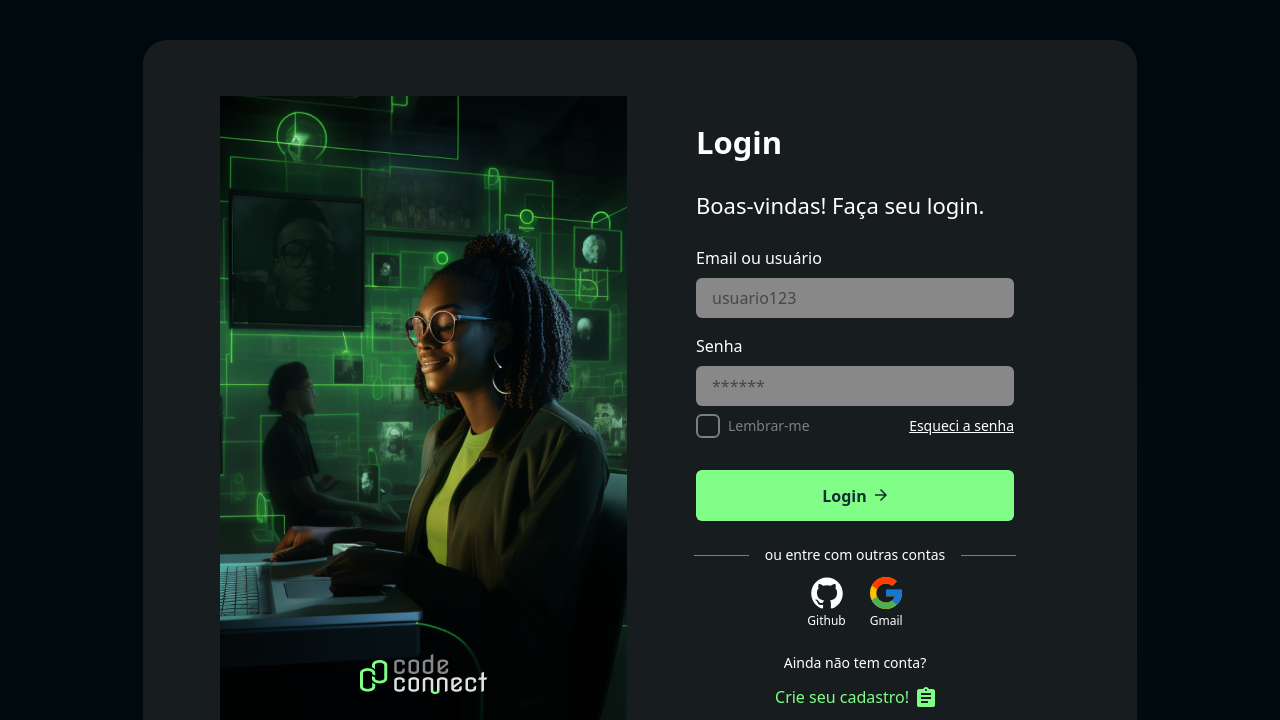
Test case: App routes › navigates from login to sign-up and back
Click the link "Crie seu cadastro!".
click(855, 697)  # box top-left (775, 685), bottom-right (935, 709)
(page scrolled)
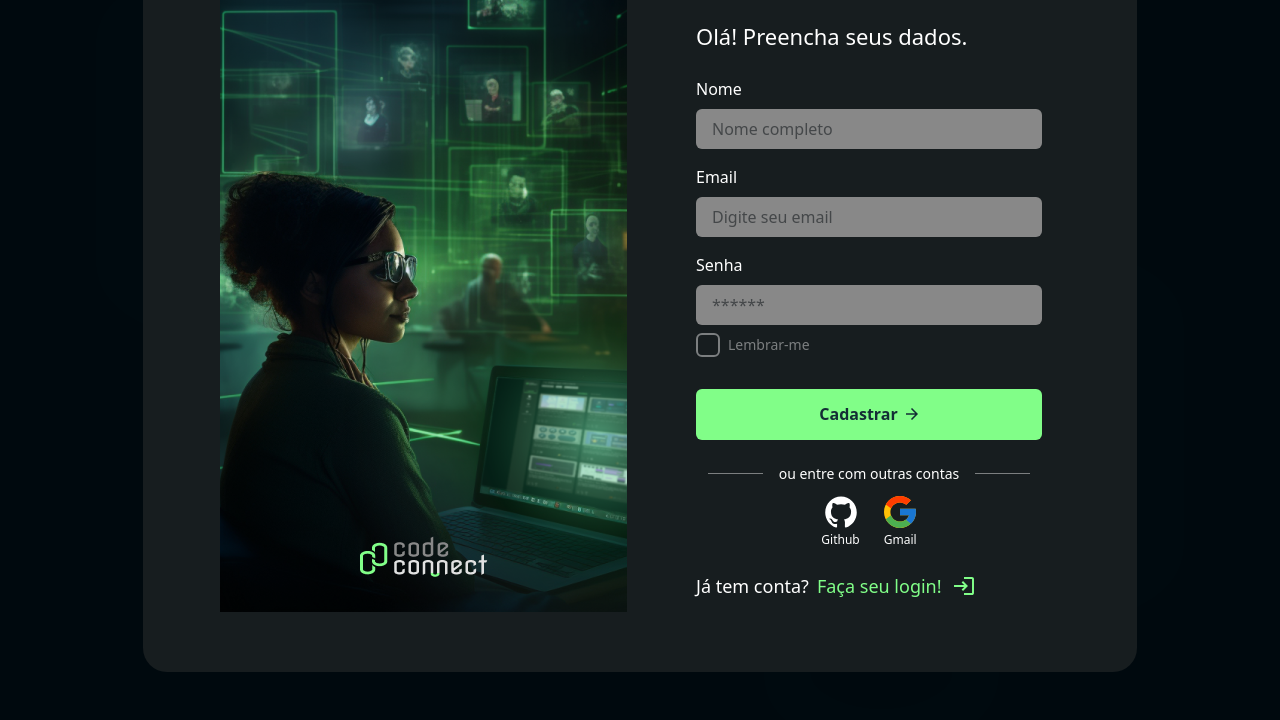
Click the link "Faça seu login!".
click(895, 586)  # box top-left (817, 572), bottom-right (974, 600)
(page scrolled)
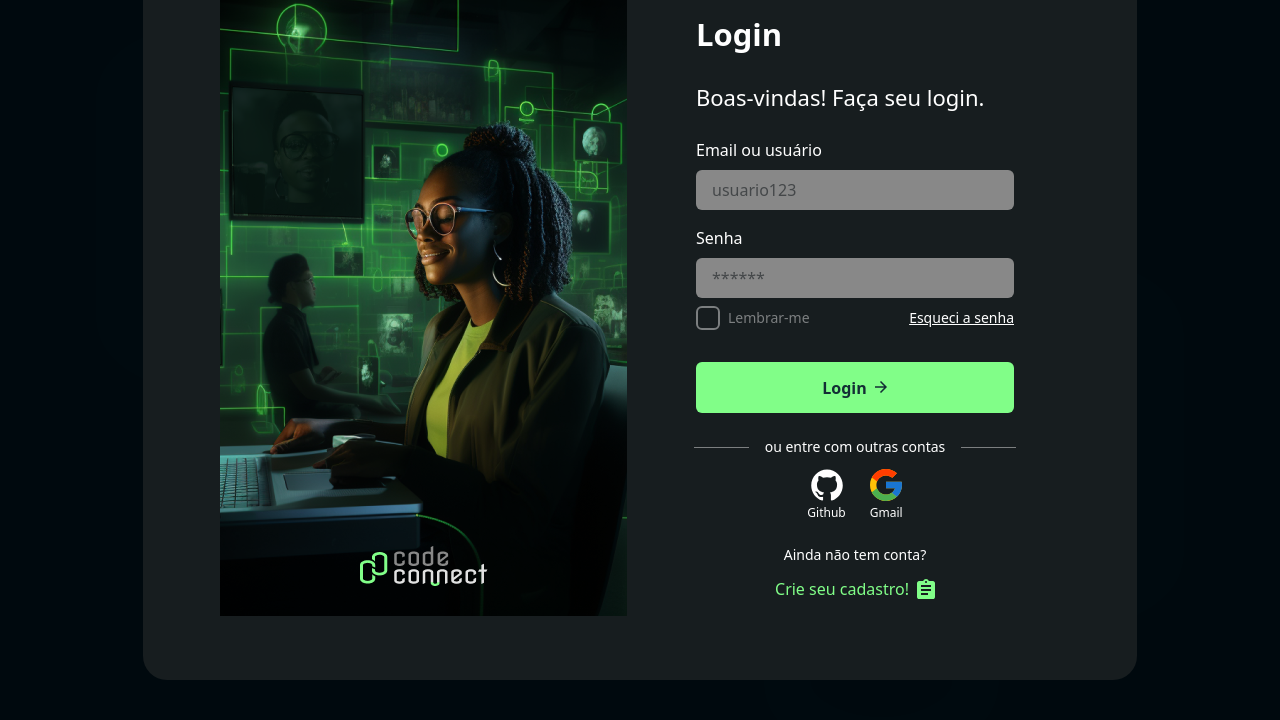
Expected: the heading "Login" is shown, top-left (696, 13), bottom-right (782, 55)
